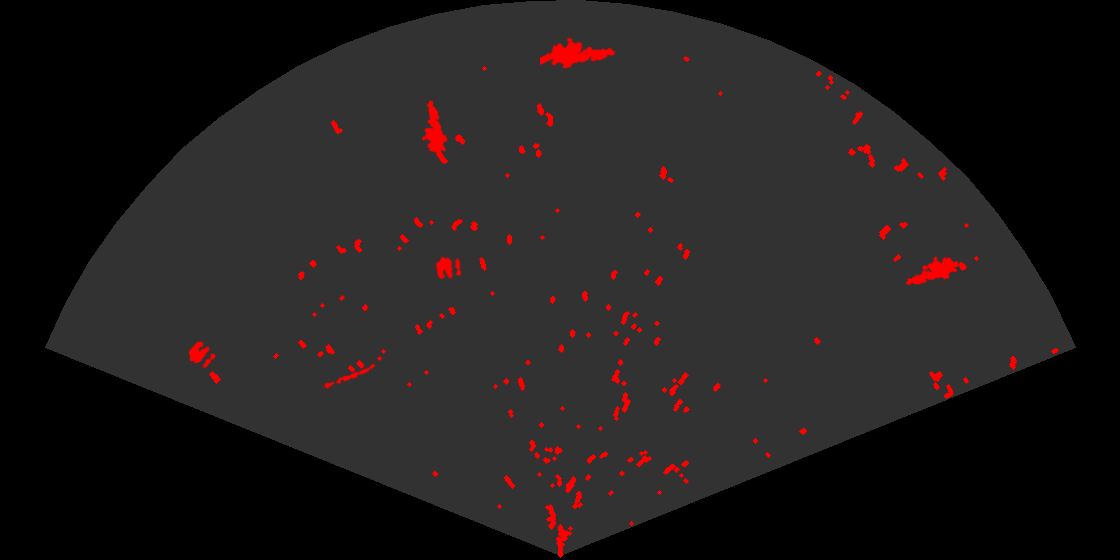ball: (187, 340, 217, 370), (434, 255, 463, 281)
chain: (322, 361, 381, 391)
frogman: (540, 36, 617, 71), (420, 99, 449, 161), (904, 254, 958, 287)
